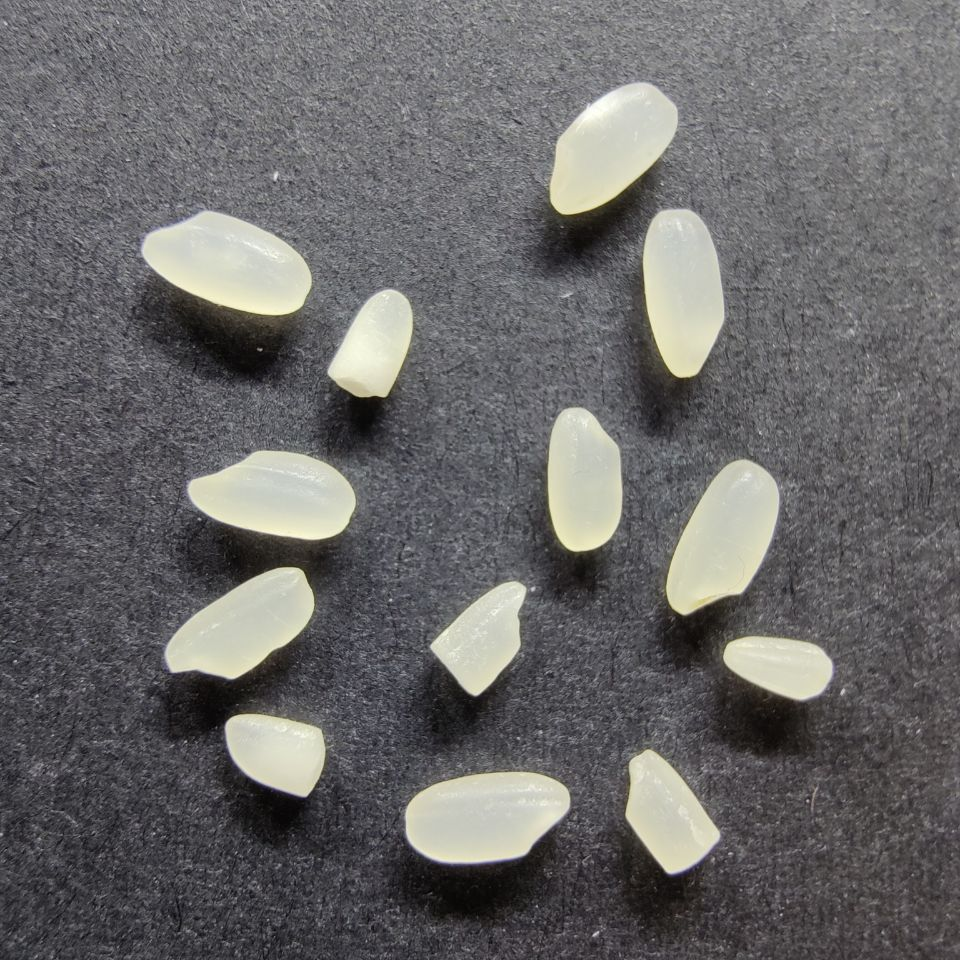broken: (623, 745, 723, 876), (428, 578, 529, 698), (324, 288, 414, 399), (220, 712, 328, 800), (723, 632, 836, 702)
rice: (665, 458, 782, 617), (140, 208, 311, 316), (547, 80, 681, 214), (162, 564, 315, 681), (402, 770, 573, 865), (185, 448, 357, 540), (639, 206, 728, 380), (545, 406, 625, 554)
